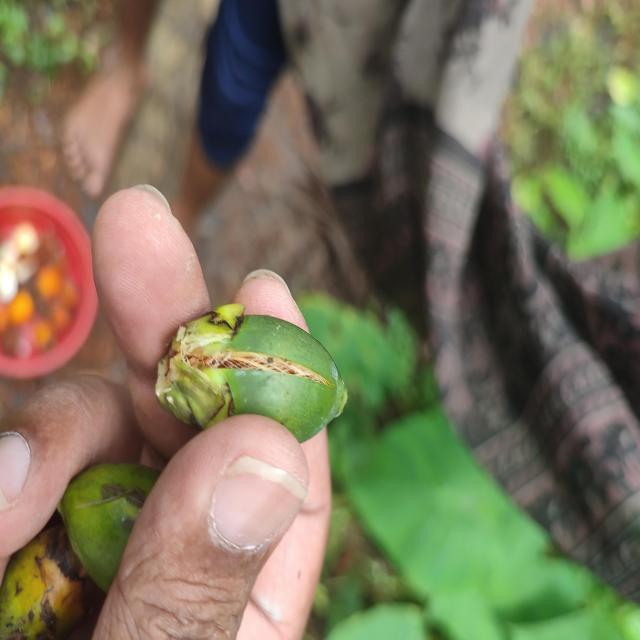damaged: (155, 303, 348, 445)
